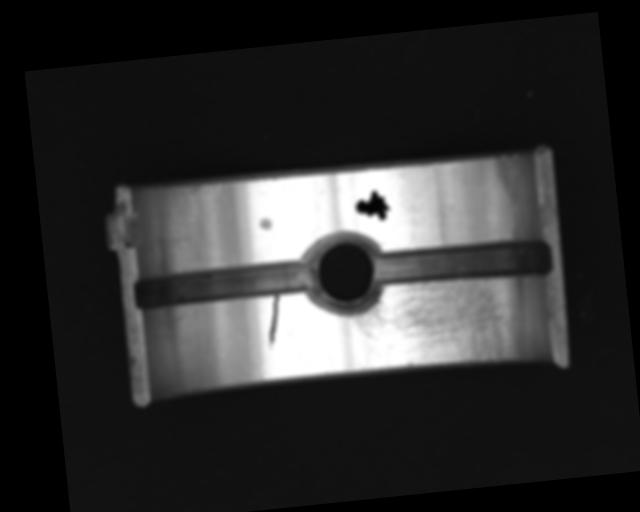blot: (353, 188, 392, 223)
bruise: (258, 216, 273, 231)
gap: (130, 256, 317, 314), (372, 235, 553, 292)
hole: (303, 228, 387, 318)
nick: (262, 293, 285, 351)
scratch: (348, 270, 521, 376)
